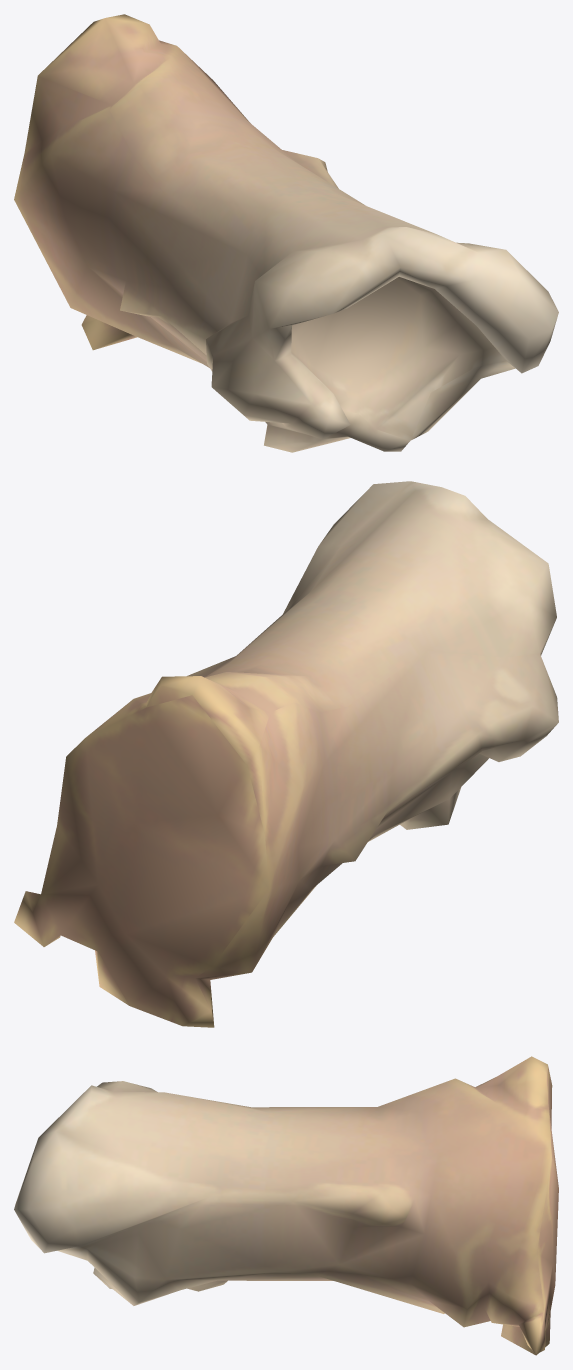
File: Vd_Candle_A.fbx
The picture shows the model from 3 angles, top to bottom: view 1: azimuth 30°, elevation 25°; view 2: azimuth 150°, elevation 25°; view 3: azimuth 270°, elevation 25°; orthographic projection. The views are drawn at different scales.
Parts seen in each view (by area): view 1: Vd_Candle_A; view 2: Vd_Candle_A; view 3: Vd_Candle_A.
Boxes of the visible parts, x1,y1,x2,y2 form: Vd_Candle_A: (14, 14, 558, 452); Vd_Candle_A: (14, 481, 558, 1027); Vd_Candle_A: (14, 1056, 558, 1355).
Bounding box in the file's own units: 70.25 × 76.34 × 138.
